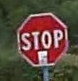stop: (13, 12, 69, 67)
